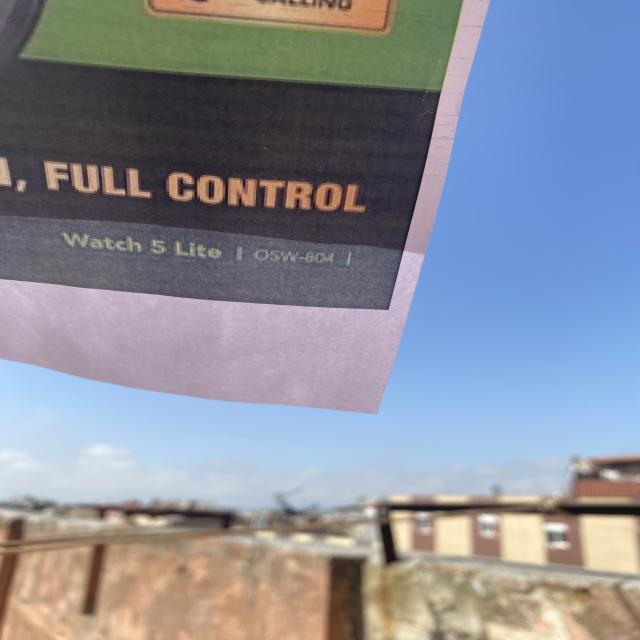Watch 5 Lite OSW-804: (56, 215, 372, 276)
